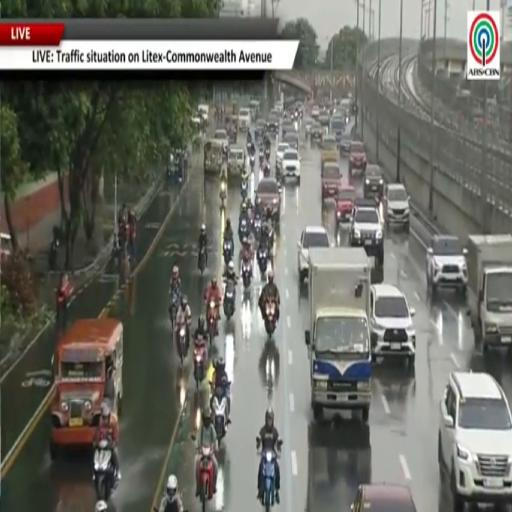car: (438, 372, 511, 511), (370, 283, 416, 370), (427, 235, 467, 295), (349, 199, 384, 267), (298, 227, 330, 283), (351, 484, 416, 511), (384, 184, 410, 232), (256, 178, 280, 223), (335, 185, 356, 229), (321, 162, 341, 202), (364, 164, 383, 202), (281, 149, 300, 184), (349, 141, 367, 175), (228, 147, 246, 174), (330, 117, 345, 143), (276, 142, 289, 168), (0, 233, 12, 261), (266, 111, 280, 134), (283, 132, 299, 150), (239, 108, 251, 131), (322, 134, 338, 151), (310, 121, 324, 140), (213, 130, 229, 146), (282, 119, 295, 138), (340, 134, 351, 155), (198, 104, 209, 125), (255, 119, 266, 139), (249, 100, 260, 119), (319, 110, 330, 127), (274, 101, 284, 115), (304, 119, 312, 136), (311, 105, 320, 120)
jeepney: (50, 318, 122, 459), (204, 140, 223, 174), (228, 147, 247, 175), (321, 150, 337, 173), (225, 115, 238, 143)
motorcycle: (93, 440, 115, 502), (197, 446, 214, 511), (262, 451, 276, 511), (213, 388, 227, 442), (194, 343, 207, 389), (264, 301, 277, 337), (207, 300, 217, 346), (224, 280, 235, 321), (177, 325, 187, 366), (170, 291, 180, 329), (257, 248, 268, 276), (242, 262, 252, 291), (239, 217, 249, 243), (224, 238, 233, 265), (198, 247, 206, 275), (220, 181, 227, 207), (254, 215, 261, 239), (241, 180, 248, 199), (249, 154, 255, 172), (264, 165, 270, 178), (259, 152, 263, 167), (265, 149, 270, 161), (247, 141, 251, 153)
truck: (305, 248, 371, 422), (466, 234, 511, 353)
